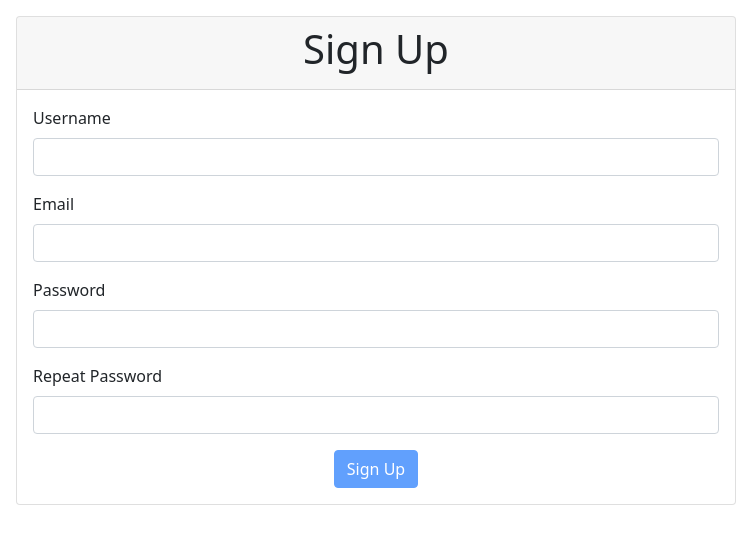
Scenario: Sign Up Page › interactions › displays Username cannot be null for username
Type "lee123" into the field labelled "Username". click: (376, 157)
box: [33,138,719,176]
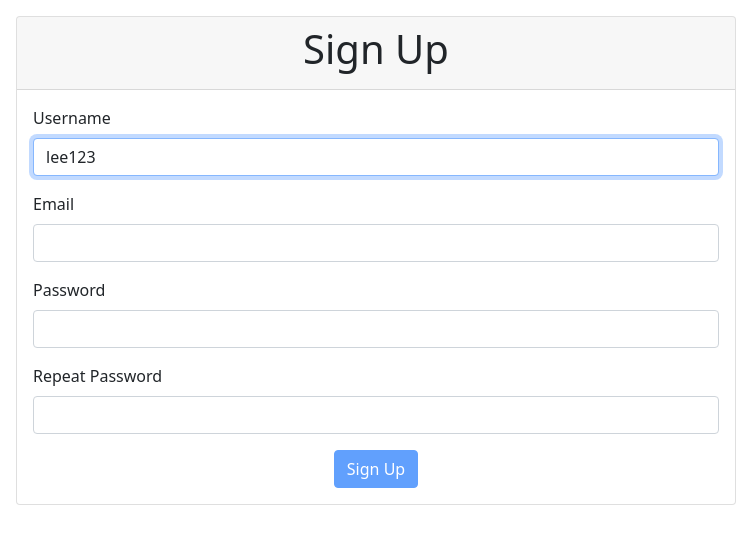
Type "poopoo@gmail.com" into the field labelled "Email". click: (376, 243)
box: [33,224,719,262]
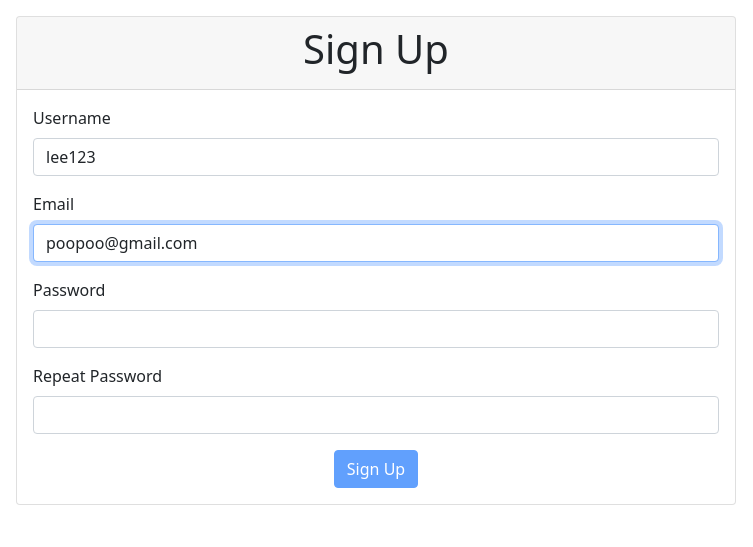
Type "Poopoo1" into the password field labelled "Password". click: (376, 329)
box: [33,310,719,348]
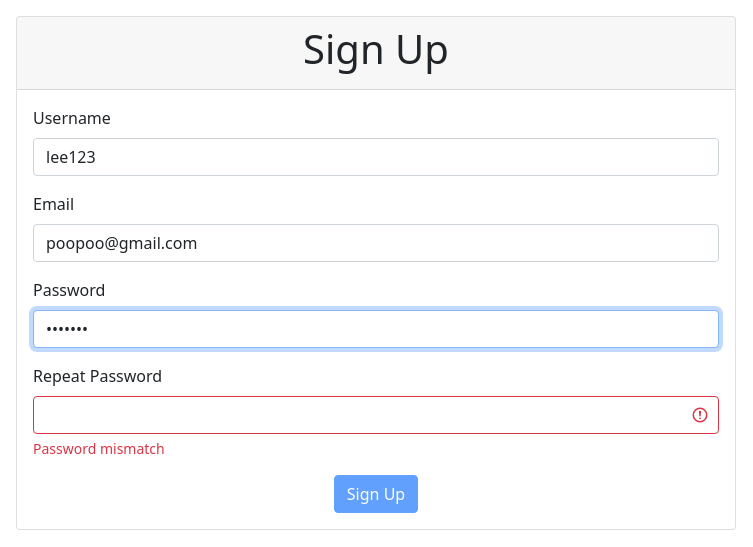
Type "Poopoo1" into the password field labelled "Repeat Password". click: (376, 415)
box: [33,396,719,434]
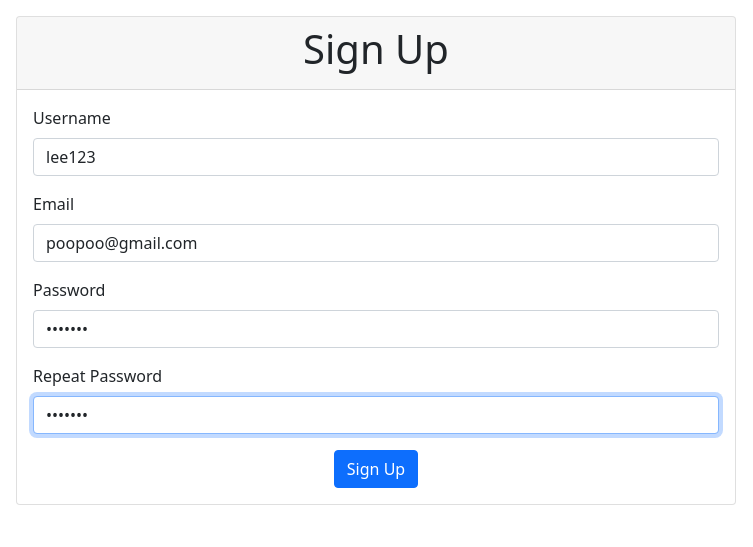
Click the button "Sign Up". click: (376, 469)
box: [334,450,418,488]
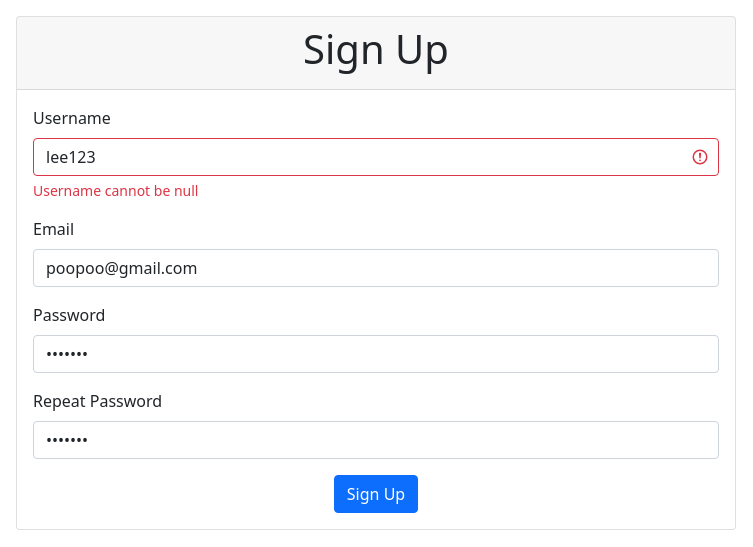
expect the text "Username cannot be null" is shown: met, box [33,181,198,200]
